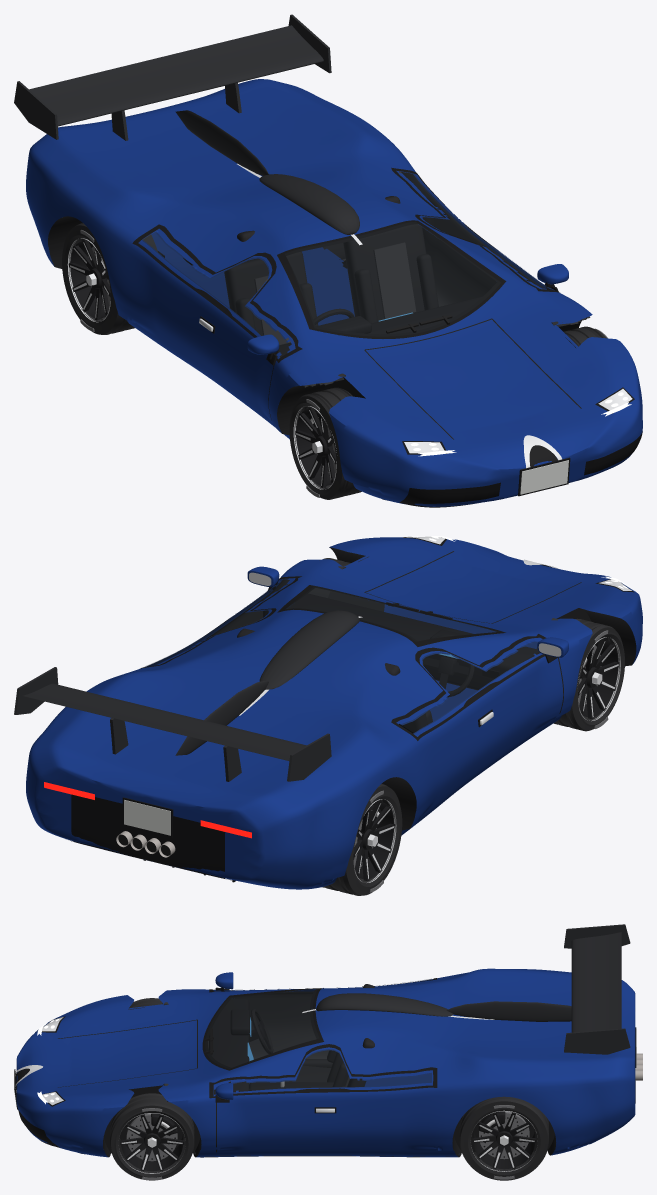
File: bolide.glb
3 renders of one model, top to bottom at view 1: azimuth 30°, elevation 25°; view 2: azimuth 150°, elevation 25°; view 3: azimuth 270°, elevation 25°, orthographic. The views are drawn at different scales.
Parts seen in each view (by area): view 1: Body, Wheel_FR, Wheel_RR; view 2: Body, Wheel_RR, Wheel_FR; view 3: Body, Wheel_RL, Wheel_FL.
Part boxes in pixels (x1,y1,x2,y2): Body: (14,14,642,507); Wheel_FR: (289,387,361,499); Wheel_RR: (62,223,134,334); Body: (14,536,642,889); Wheel_RR: (322,784,402,895); Wheel_FR: (553,618,624,731); Body: (14,924,642,1157); Wheel_RL: (459,1096,548,1180); Wheel_FL: (110,1093,194,1180).
Bounding box in the file's own units: 2.23 × 1.3 × 4.91.
